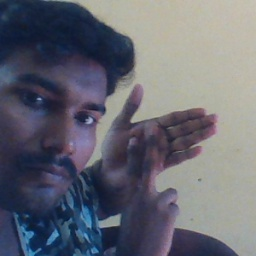N: (101, 82, 220, 228)
